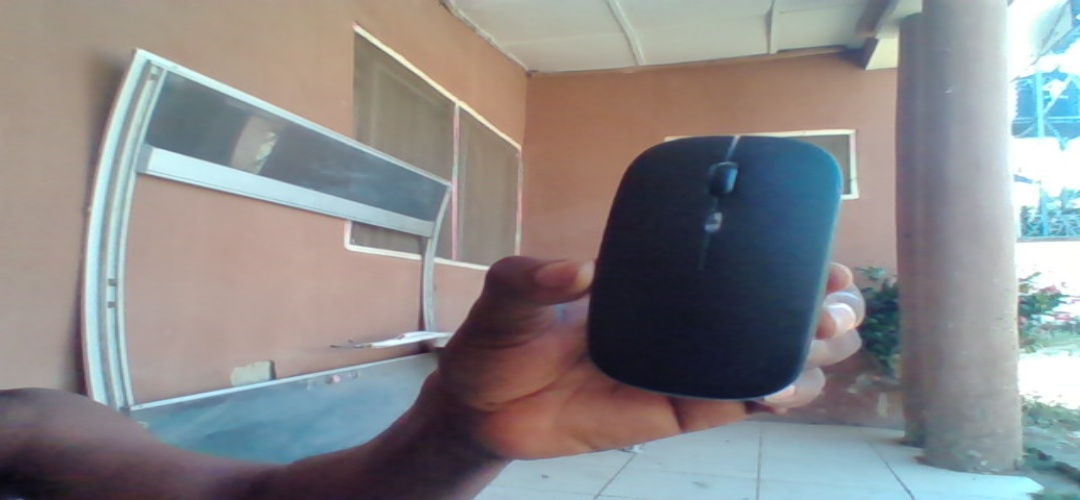wireless_mouse: (607, 130, 836, 403)
